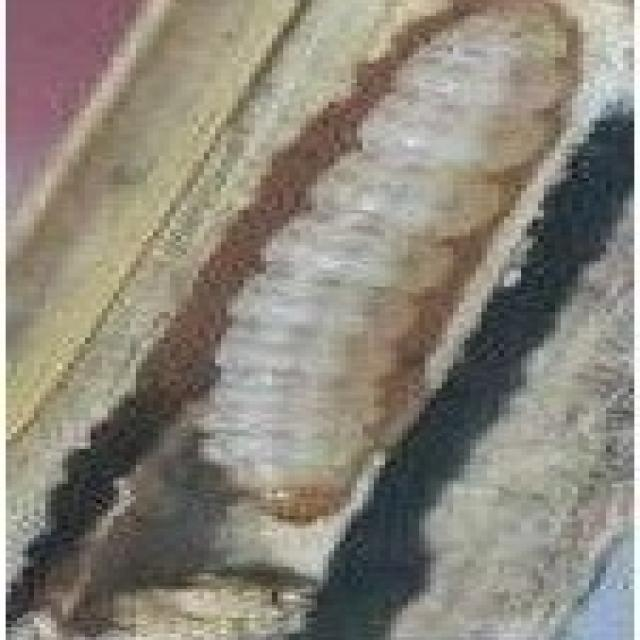peach borer: (194, 6, 590, 525)
